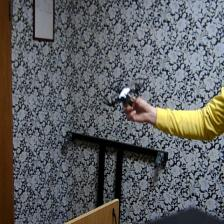drone: (98, 72, 150, 116)
